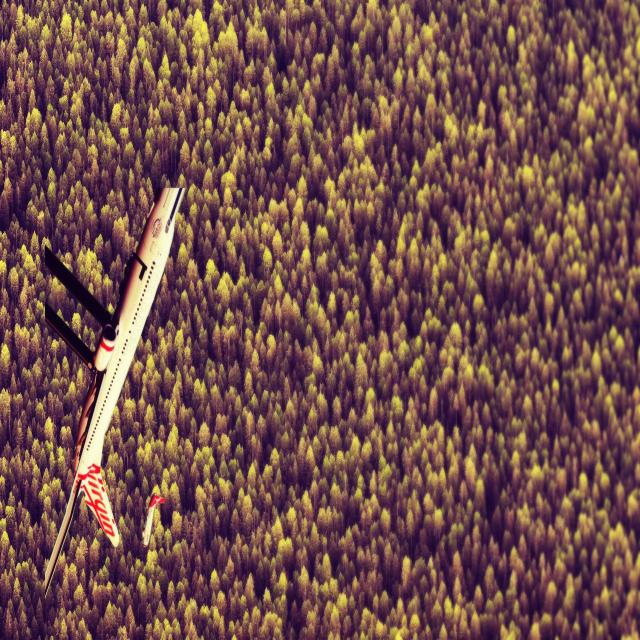airplane: (41, 183, 186, 599)
